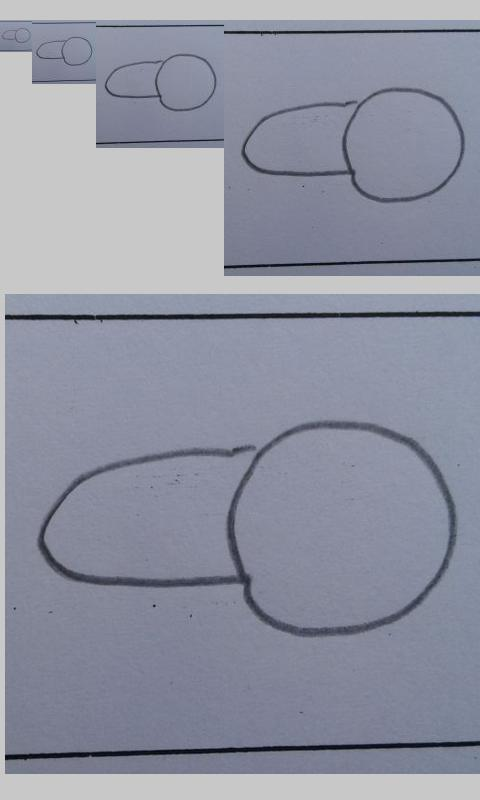switch: (37, 419, 458, 638), (240, 85, 466, 203), (104, 53, 217, 112), (35, 36, 94, 66), (1, 27, 32, 44)
